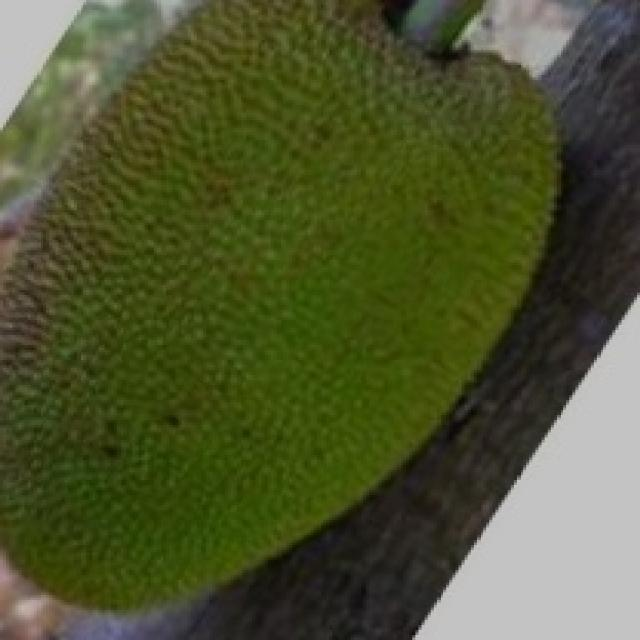Fruit: (0, 0, 385, 360), (283, 0, 619, 375)
